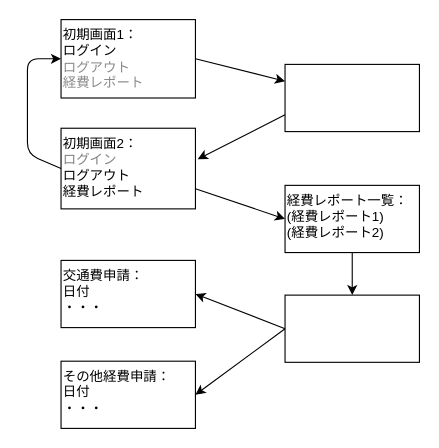
Some shapes in this 439 by 448 pixel diagram are drawn without their labels. The centre of each missing label's shape, as x and y in pixels:
"ログイン： eメールアドレス パスワード" goes at point 351,97.
"経費レポート： (経費1) (経費2)" goes at point 351,328.
